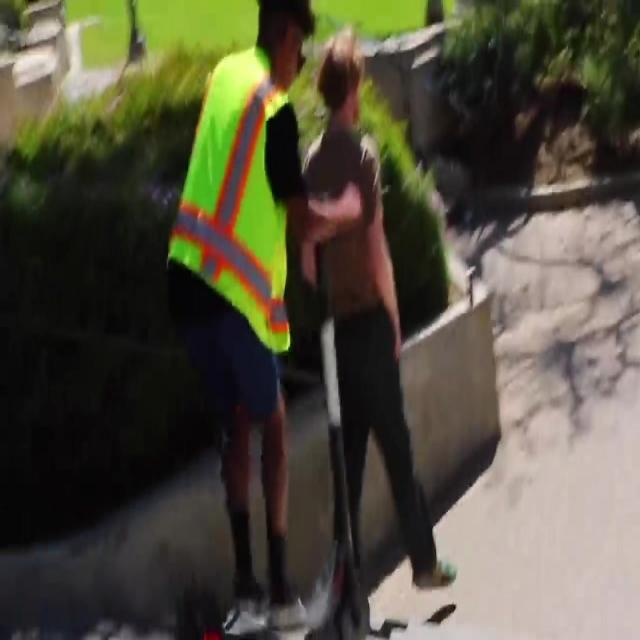Reflective-Jacket: (162, 49, 304, 369)
